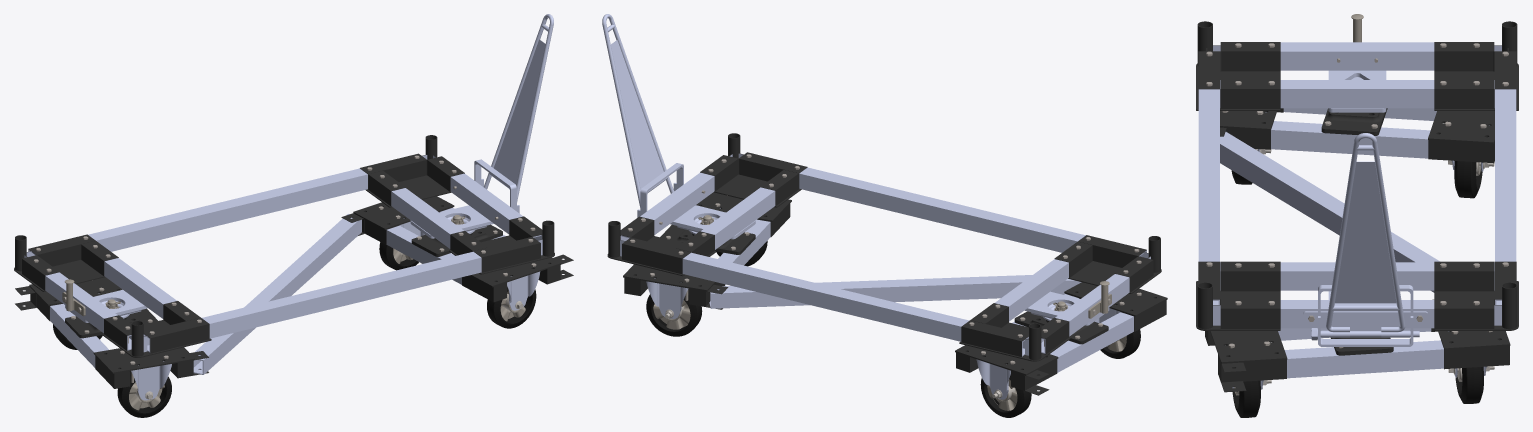
The model's file is agv2.fbx.
The picture shows the model from 3 angles, left to right: view 1: azimuth 30°, elevation 25°; view 2: azimuth 150°, elevation 25°; view 3: azimuth 270°, elevation 25°; orthographic projection. The views are drawn at different scales.
Parts seen in each view (by area): view 1: ÝZ SÜRME - Profil tutucu ana baðlantý parçasý, ÝZ SÜRME - 1321,40 cm profil 48x48 (×2), ÝZ SÜRME - Profil tutucu ara baðlantý parçasý (×4), ÝZ SÜRME - 48x48 - 616,42 cm profil (×4), ÝZ SÜRME - çekici oynar p2, ÝZ SÜRME - ara baðlantý profili - 100mm, ÝZ SÜRME - tekerlek (×3), ÝZ SÜRME - 655.49 (×2), ÝZ SÜRME - mafsal - erkek parça (×2), ÝZ SÜRME - tekerlek üstü tutucu (×2), ÝZ SÜRME - Mafsal - rulmanlý parça (×2), ÝZ SÜRME - çekici sabit parça; view 2: ÝZ SÜRME - Profil tutucu ana baðlantý parçasý, ÝZ SÜRME - 1321,40 cm profil 48x48 (×2), ÝZ SÜRME - Profil tutucu ara baðlantý parçasý (×4), ÝZ SÜRME - 48x48 - 616,42 cm profil (×4), ÝZ SÜRME - ara baðlantý profili - 100mm, ÝZ SÜRME - çekici oynar p2, ÝZ SÜRME - tekerlek (×3), ÝZ SÜRME - 655.49 (×2), ÝZ SÜRME - mafsal - erkek parça (×2), ÝZ SÜRME - tekerlek üstü tutucu (×2), ÝZ SÜRME - Mafsal - rulmanlý parça (×2), ÝZ SÜRME - çekici sabit parça; view 3: ÝZ SÜRME - Profil tutucu ana baðlantý parçasý, ÝZ SÜRME - 48x48 - 616,42 cm profil (×4), ÝZ SÜRME - Profil tutucu ara baðlantý parçasý (×4), ÝZ SÜRME - 655.49 (×4), ÝZ SÜRME - çekici oynar p2, ÝZ SÜRME - 1321,40 cm profil 48x48 (×2), ÝZ SÜRME - ara baðlantý profili - 100mm, ÝZ SÜRME - çekici sabit parça, ÝZ SÜRME - tekerlek (×3), ÝZ SÜRME - mafsal - erkek parça (×2), ÝZ SÜRME - Mafsal - rulmanlý parça.
Part boxes in pixels (box(x1,y1,x2,y2)): ÝZ SÜRME - Profil tutucu ana baðlantý parçasý: box(14, 135, 554, 357); ÝZ SÜRME - 1321,40 cm profil 48x48 (×2): box(28, 168, 481, 352); ÝZ SÜRME - Profil tutucu ara baðlantý parçasý (×4): box(15, 196, 573, 388); ÝZ SÜRME - 48x48 - 616,42 cm profil (×4): box(45, 173, 541, 350); ÝZ SÜRME - çekici oynar p2: box(484, 14, 553, 201); ÝZ SÜRME - ara baðlantý profili - 100mm: box(193, 214, 361, 374); ÝZ SÜRME - tekerlek (×3): box(117, 242, 536, 417); ÝZ SÜRME - 655.49 (×2): box(50, 225, 461, 367); ÝZ SÜRME - mafsal - erkek parça (×2): box(65, 215, 502, 338); ÝZ SÜRME - tekerlek üstü tutucu (×2): box(131, 271, 540, 400); ÝZ SÜRME - Mafsal - rulmanlý parça (×2): box(65, 205, 493, 322); ÝZ SÜRME - çekici sabit parça: box(474, 159, 519, 213); ÝZ SÜRME - Profil tutucu ana baðlantý parçasý: box(607, 133, 1161, 361); ÝZ SÜRME - 1321,40 cm profil 48x48 (×2): box(682, 167, 1146, 356); ÝZ SÜRME - Profil tutucu ara baðlantý parçasý (×4): box(623, 192, 1167, 395); ÝZ SÜRME - 48x48 - 616,42 cm profil (×4): box(621, 172, 1129, 353); ÝZ SÜRME - ara baðlantý profili - 100mm: box(709, 275, 1081, 308); ÝZ SÜRME - çekici oynar p2: box(602, 14, 674, 207); ÝZ SÜRME - tekerlek (×3): box(646, 288, 1140, 417); ÝZ SÜRME - 655.49 (×2): box(718, 219, 1133, 372); ÝZ SÜRME - mafsal - erkek parça (×2): box(660, 215, 1108, 344); ÝZ SÜRME - tekerlek üstü tutucu (×2): box(646, 278, 1010, 399); ÝZ SÜRME - Mafsal - rulmanlý parça (×2): box(670, 205, 1109, 325); ÝZ SÜRME - çekici sabit parça: box(637, 163, 683, 217); ÝZ SÜRME - Profil tutucu ana baðlantý parçasý: box(1196, 21, 1518, 330); ÝZ SÜRME - 48x48 - 616,42 cm profil (×4): box(1220, 42, 1494, 328); ÝZ SÜRME - Profil tutucu ara baðlantý parçasý (×4): box(1205, 108, 1510, 392); ÝZ SÜRME - 655.49 (×4): box(1271, 108, 1443, 378); ÝZ SÜRME - çekici oynar p2: box(1321, 133, 1409, 337); ÝZ SÜRME - 1321,40 cm profil 48x48 (×2): box(1198, 89, 1516, 304); ÝZ SÜRME - ara baðlantý profili - 100mm: box(1220, 132, 1439, 292); ÝZ SÜRME - çekici sabit parça: box(1303, 285, 1427, 346); ÝZ SÜRME - tekerlek (×3): box(1232, 161, 1483, 417); ÝZ SÜRME - mafsal - erkek parça (×2): box(1321, 108, 1393, 355); ÝZ SÜRME - Mafsal - rulmanlý parça: box(1328, 70, 1386, 112).
Bounding box in the file's own units: 167 × 83.23 × 72.64.
